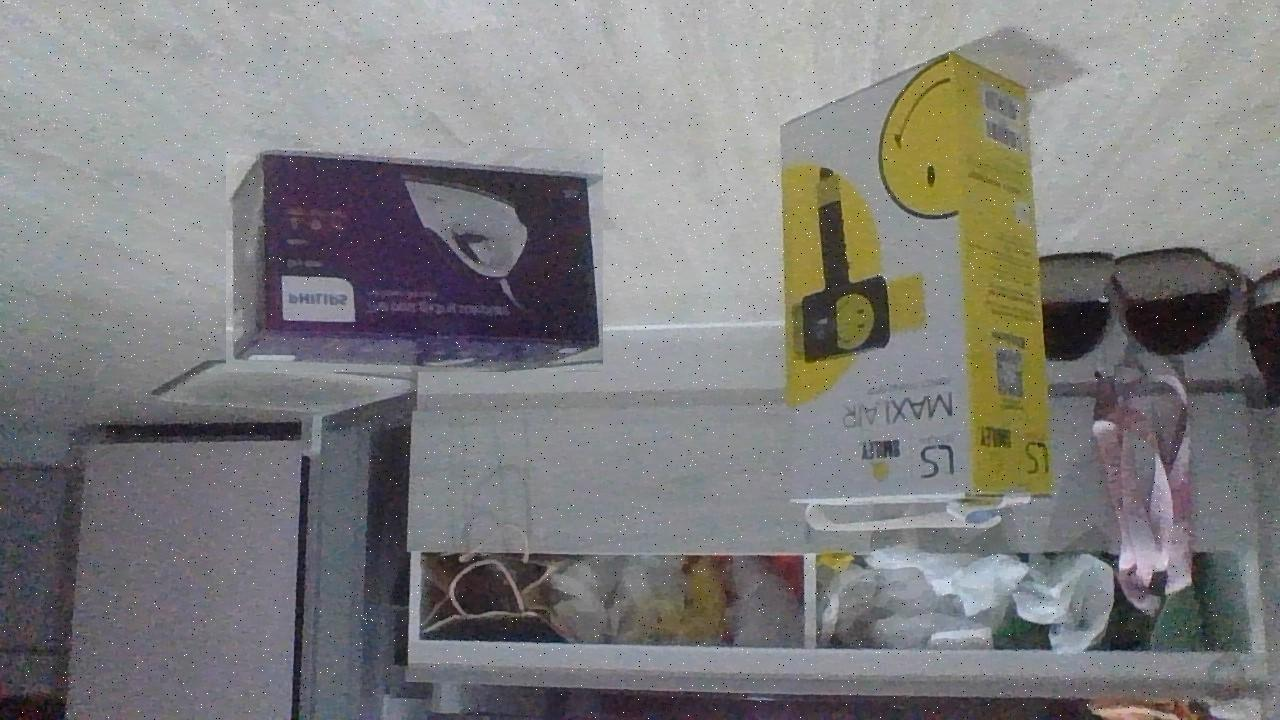Dryer: (775, 51, 1058, 534)
IRON: (226, 148, 603, 372)
